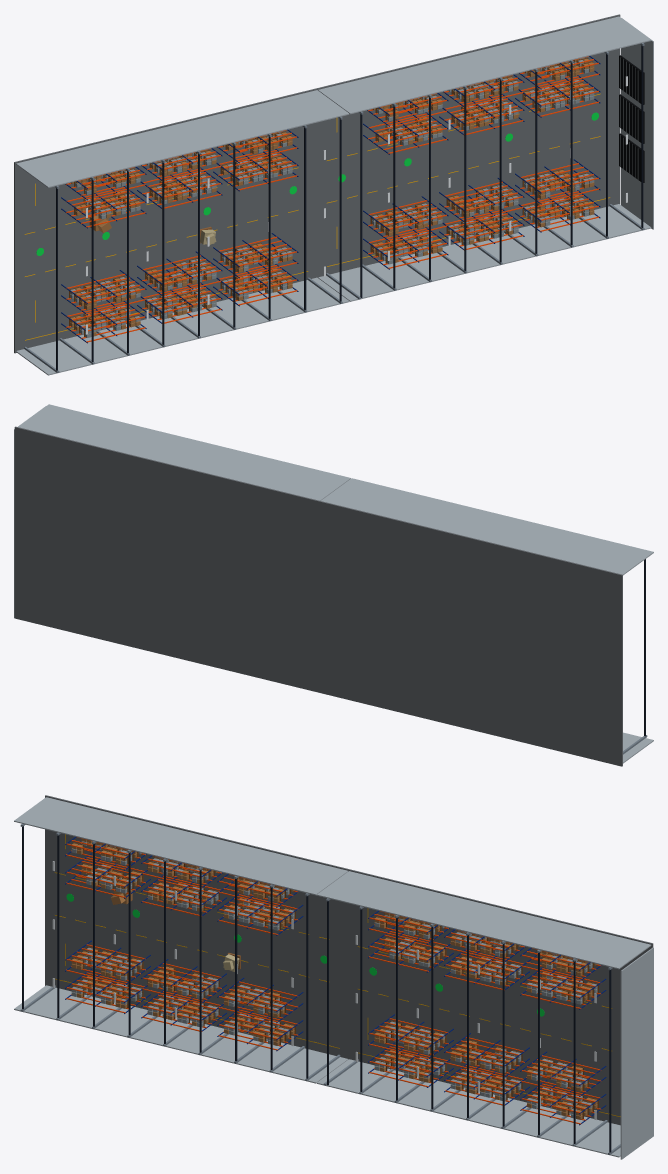
File: galpao_safe4.obj
3 renders of one model, top to bottom at view 1: azimuth 30°, elevation 25°; view 2: azimuth 150°, elevation 25°; view 3: azimuth 330°, elevation 25°, orthographic.
Parts seen in each view (by area): view 1: galpao_safe4; view 2: galpao_safe4; view 3: galpao_safe4.
Boxes of the visible parts, x1=… form: galpao_safe4: x1=14, y1=14, x2=653, y2=375; galpao_safe4: x1=14, y1=404, x2=653, y2=766; galpao_safe4: x1=14, y1=795, x2=653, y2=1159.
Size of the model in its own units: 29.98 by 9.03 by 2.93.
